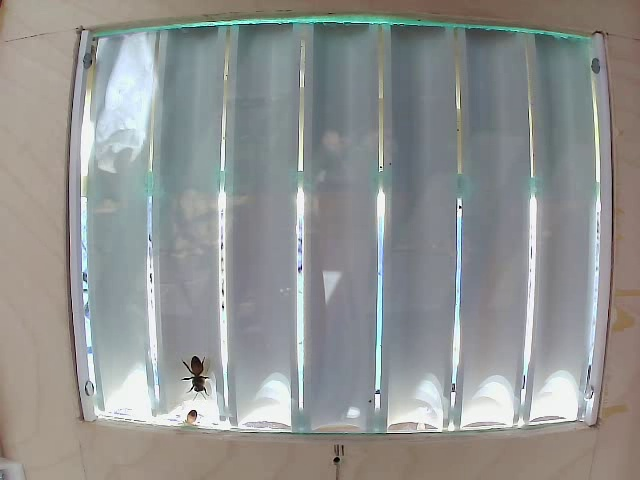bee: (172, 339, 226, 397)
